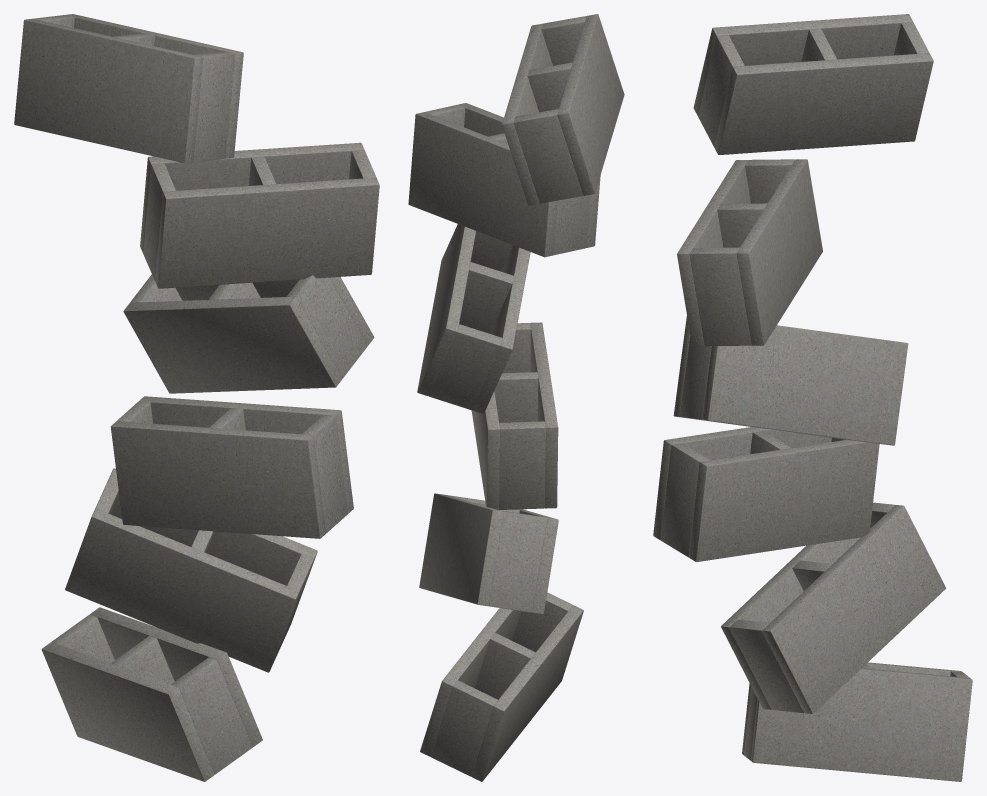
Rendered from ALV-BCO-001_anim.glb.
3 renders of one model, left to right at view 1: azimuth 30°, elevation 25°; view 2: azimuth 150°, elevation 25°; view 3: azimuth 270°, elevation 25°, orthographic. The views are drawn at different scales.
Visible parts, largest first — view 1: ALV-BCO-001_anim4, ALV-BCO-001_anim2, ALV-BCO-001_anim5, ALV-BCO-001_anim1, ALV-BCO-001_anim0, ALV-BCO-001_anim3; view 2: ALV-BCO-001_anim5, ALV-BCO-001_anim0, ALV-BCO-001_anim4, ALV-BCO-001_anim3, ALV-BCO-001_anim1, ALV-BCO-001_anim2; view 3: ALV-BCO-001_anim5, ALV-BCO-001_anim1, ALV-BCO-001_anim2, ALV-BCO-001_anim3, ALV-BCO-001_anim4, ALV-BCO-001_anim0.
Boxes of the visible parts, bbox=[...] form: ALV-BCO-001_anim4: bbox=[140, 142, 379, 288]; ALV-BCO-001_anim2: bbox=[110, 396, 353, 538]; ALV-BCO-001_anim5: bbox=[14, 14, 243, 163]; ALV-BCO-001_anim1: bbox=[65, 468, 317, 672]; ALV-BCO-001_anim0: bbox=[41, 607, 262, 781]; ALV-BCO-001_anim3: bbox=[123, 274, 374, 393]; ALV-BCO-001_anim5: bbox=[502, 14, 624, 205]; ALV-BCO-001_anim0: bbox=[420, 592, 583, 781]; ALV-BCO-001_anim4: bbox=[408, 103, 600, 257]; ALV-BCO-001_anim3: bbox=[417, 224, 530, 413]; ALV-BCO-001_anim1: bbox=[419, 493, 558, 614]; ALV-BCO-001_anim2: bbox=[471, 322, 558, 509]; ALV-BCO-001_anim5: bbox=[693, 14, 933, 154]; ALV-BCO-001_anim1: bbox=[721, 502, 945, 713]; ALV-BCO-001_anim2: bbox=[653, 427, 879, 561]; ALV-BCO-001_anim3: bbox=[673, 316, 908, 445]; ALV-BCO-001_anim4: bbox=[677, 159, 822, 346]; ALV-BCO-001_anim0: bbox=[742, 662, 972, 781].
Size of the model in its own units: 0.559 by 1.5 by 0.5855.
1 material, 1 textured.
